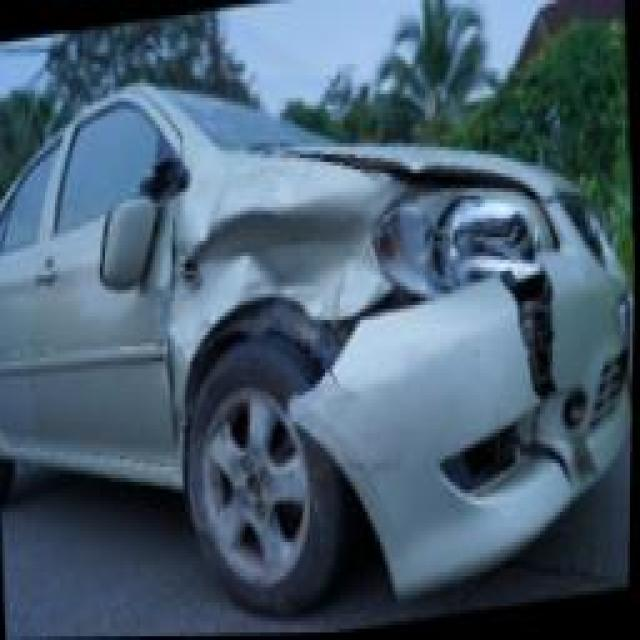Bumper: (322, 260, 635, 604)
Fender: (165, 162, 391, 362)
Light: (378, 173, 549, 300)
